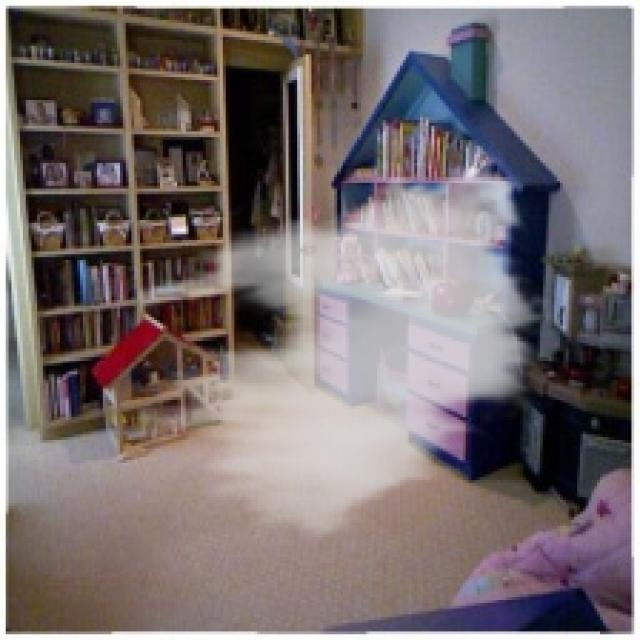smoke: (137, 146, 554, 548)
